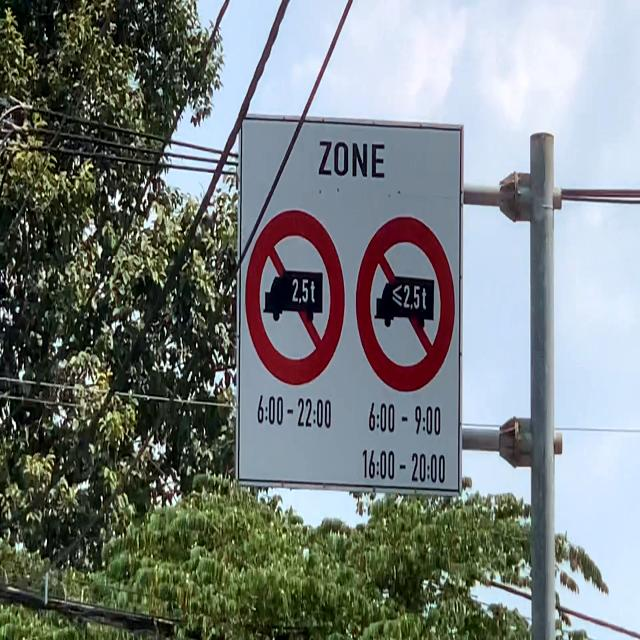P.106b: (244, 208, 346, 386), (355, 215, 455, 394)
